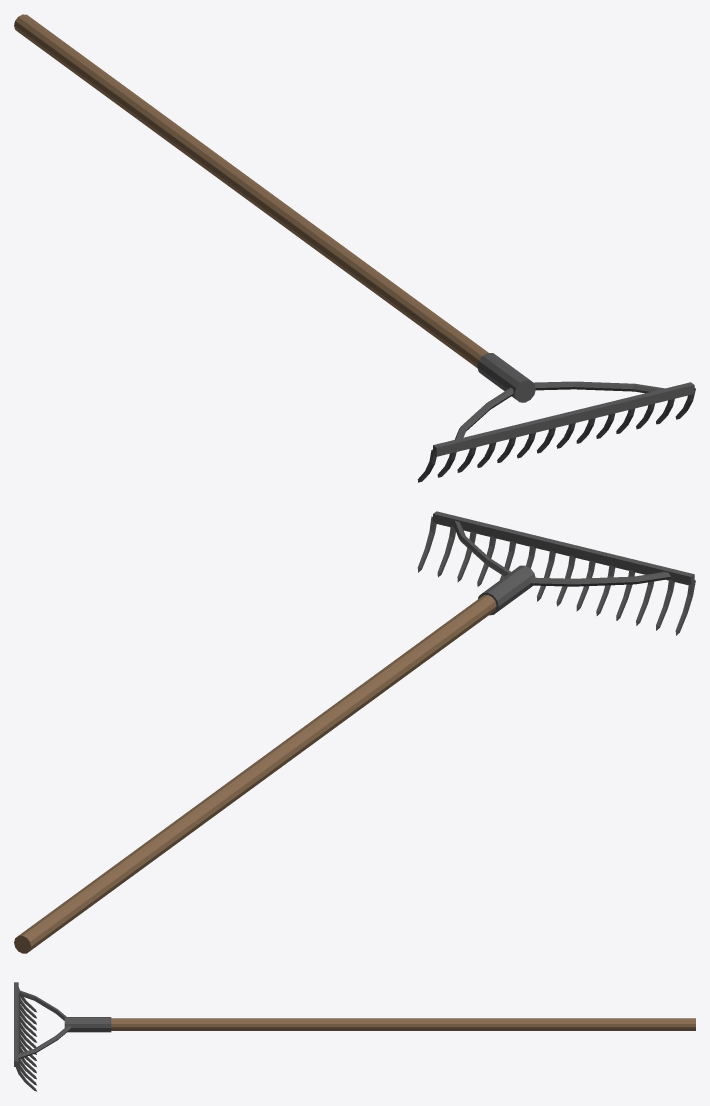
Rendered from ironrake.glb.
3 views of the same model, one above another, from view 1: azimuth 30°, elevation 25°; view 2: azimuth 150°, elevation 25°; view 3: azimuth 270°, elevation 25° (orthographic). The views are drawn at different scales.
Visible parts, largest first — view 1: Handle, RakeBar, ConnectorBase, Arm_R; view 2: Handle, RakeBar, ConnectorBase, Arm_L; view 3: Handle, ConnectorBase, RakeBar, Arm_R, Arm_L.
Part boxes in pixels (x1,y1,x2,y2): Handle: [14, 14, 488, 368]; RakeBar: [433, 382, 694, 456]; ConnectorBase: [477, 353, 535, 402]; Arm_R: [534, 381, 664, 393]; Handle: [14, 595, 496, 953]; RakeBar: [433, 511, 694, 585]; ConnectorBase: [478, 565, 535, 615]; Arm_L: [530, 572, 670, 586]; Handle: [111, 1018, 695, 1030]; ConnectorBase: [64, 1017, 111, 1032]; RakeBar: [14, 982, 18, 1066]; Arm_R: [18, 1025, 70, 1059]; Arm_L: [18, 990, 66, 1020].
Size of the model in its own units: 0.6099 by 0.1221 by 2.19.
